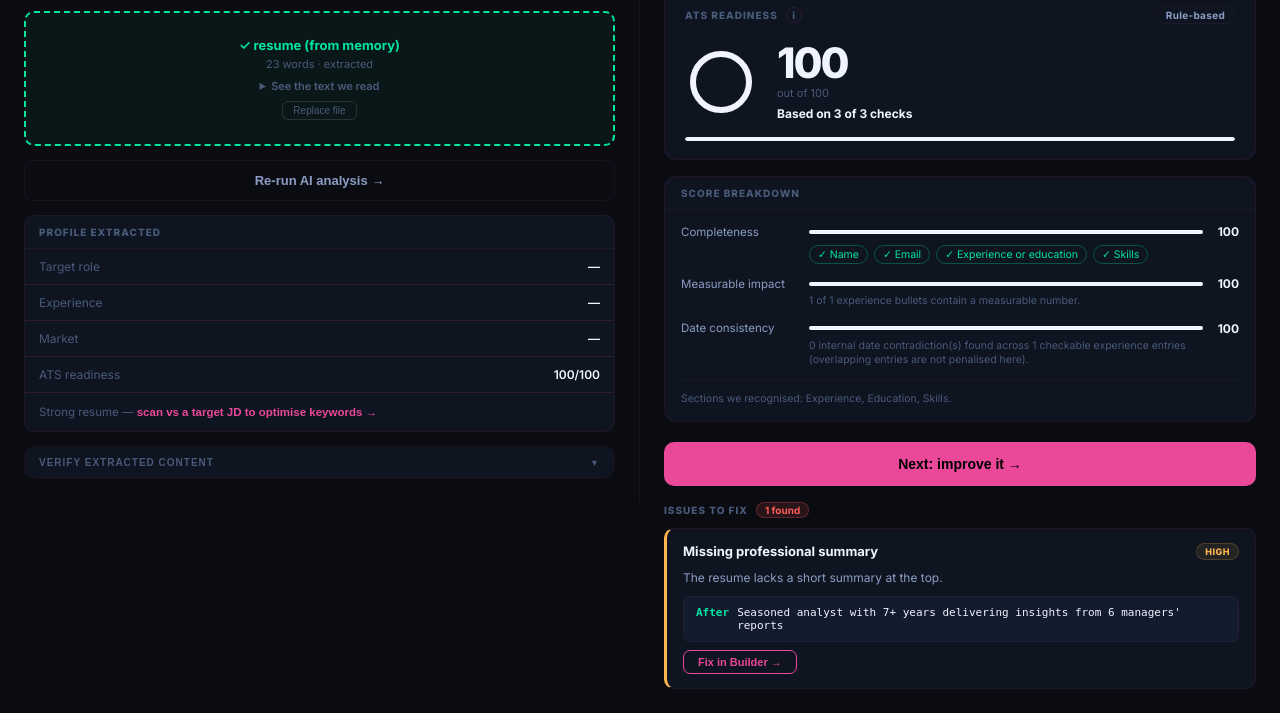
the suggestion sits next to the box it is for › on another step the card shrinks to one line that leads back
(page scrolled)
Click the button "Fix in Builder →" at {"x": 740, "y": 662}, box [683,650,797,674]
(page scrolled)
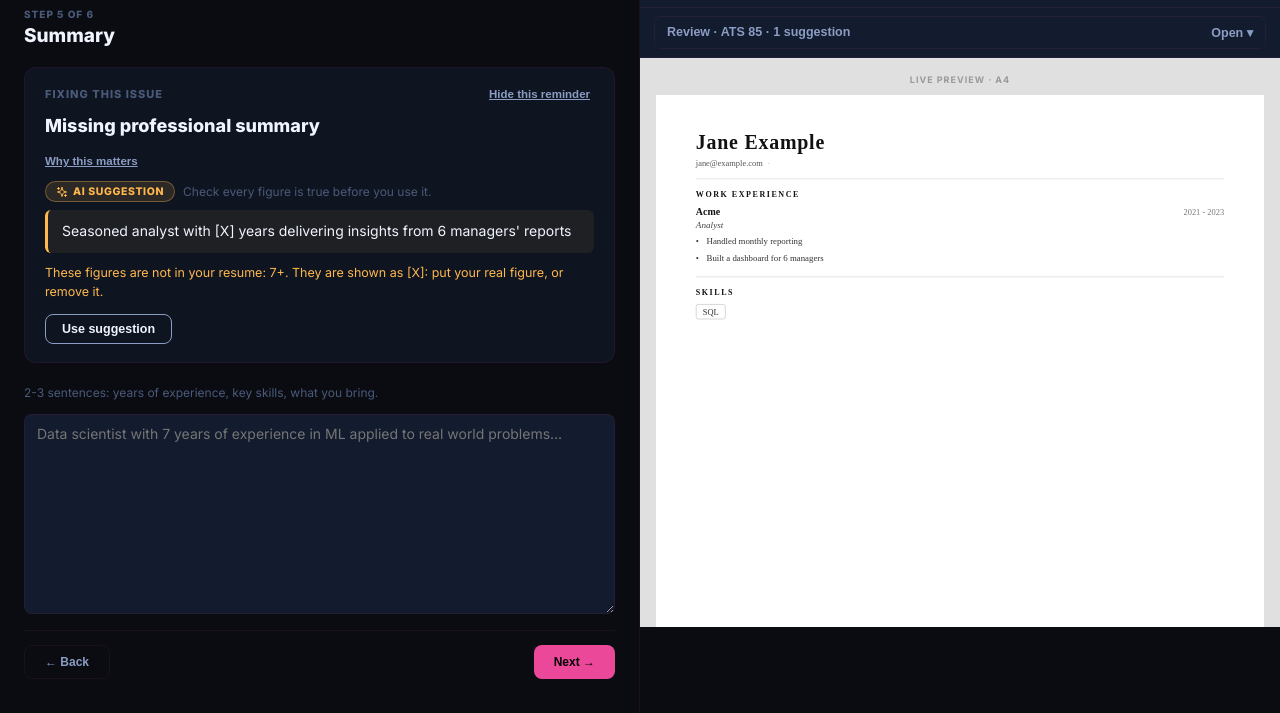
Click the button "← Back" at {"x": 67, "y": 662}, box [24,645,110,679]
(page scrolled)
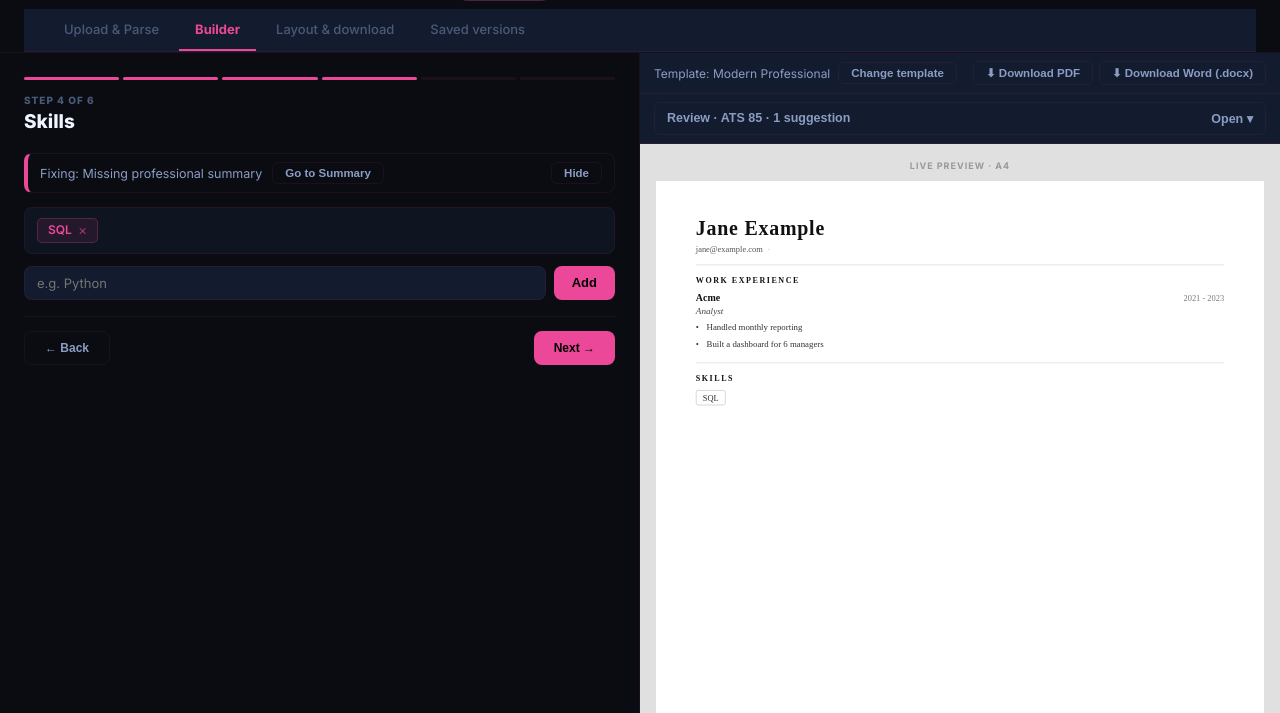
Expected: the button "Go to Summary" is shown, [272,162,384,184]
